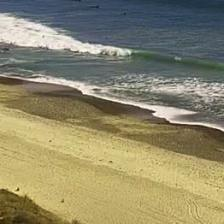surfer: (91, 5, 99, 8), (74, 0, 82, 2), (123, 12, 127, 15)
